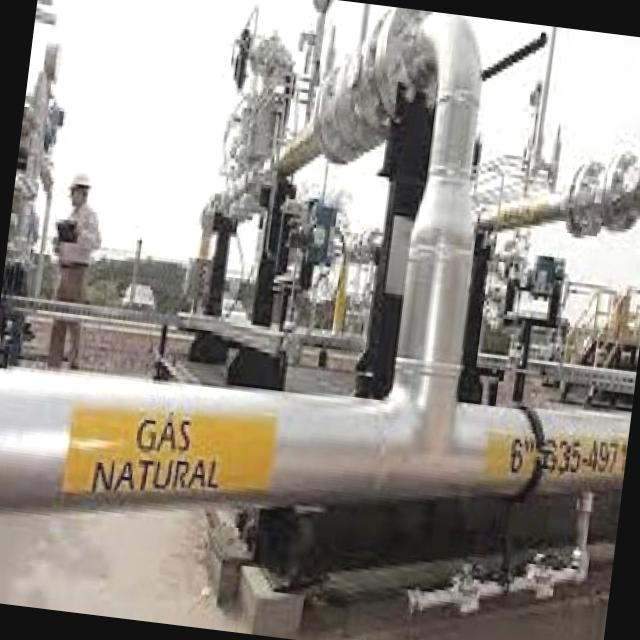gas: (0, 364, 631, 505), (205, 15, 445, 223), (393, 32, 486, 398), (415, 490, 593, 614), (481, 154, 640, 227)
